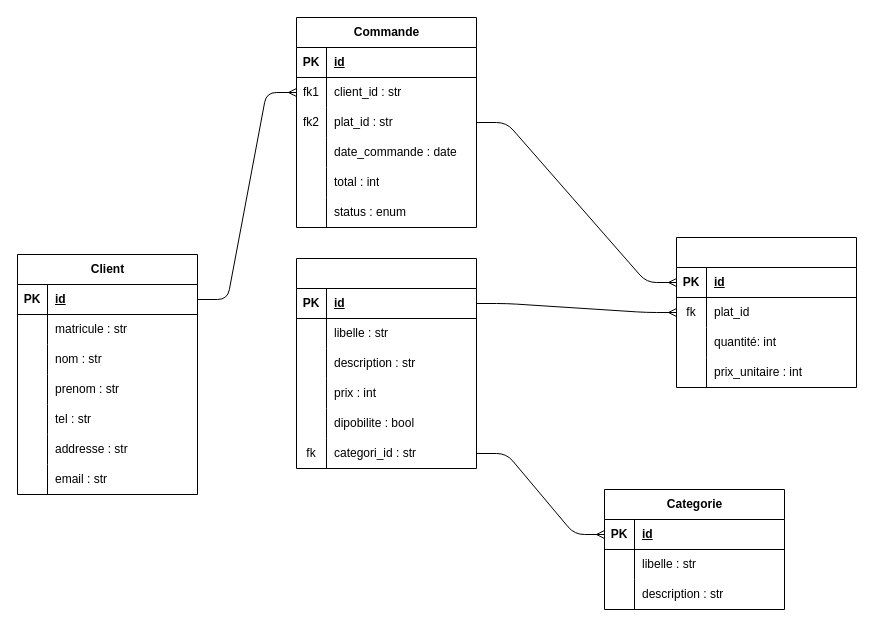
This 874x627 diagram has some shape labels left out. Each missing label, with the box of its shape:
LigneCommande: (676, 236, 856, 388)
Plat: (296, 258, 476, 468)
